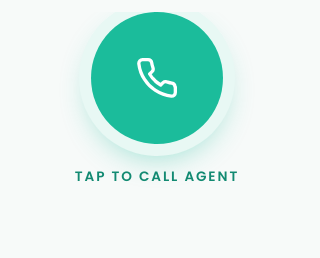
Test: VoiceCall › shows a clear error when calls are not available
This screenshot has width=320, height=258.
Click the button named "Call the MediLens agent" at (157, 78), box [91,12,223,144]
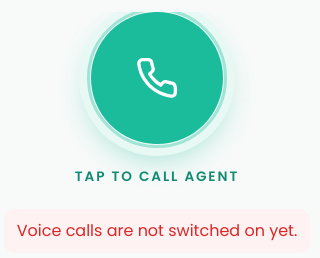
Expected: the message reads "Voice calls are not switched on yet.", [17,219,297,242]
